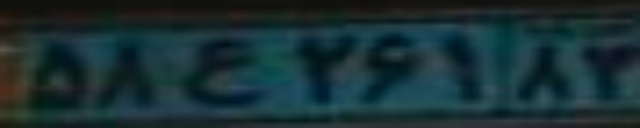1: (437, 32, 485, 100)
2: (294, 35, 354, 103)
3: (582, 43, 639, 102)
5: (27, 40, 88, 109)
6: (361, 35, 420, 102)
8: (93, 43, 158, 110), (516, 44, 573, 101)
ain: (181, 39, 269, 105)
